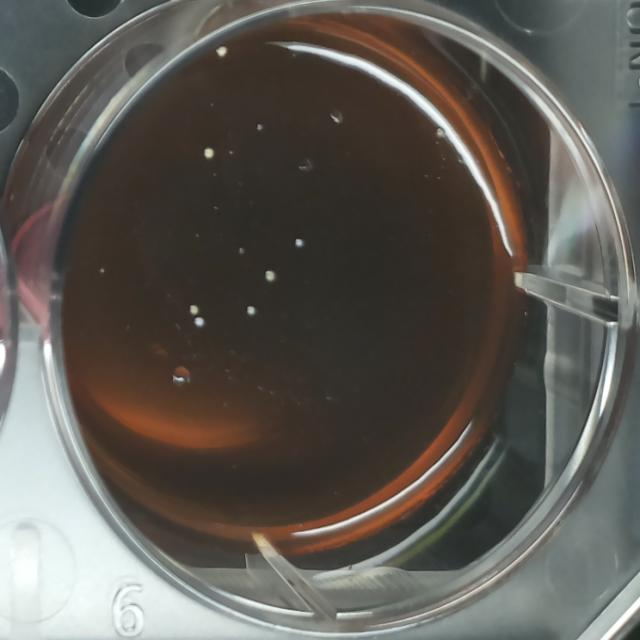Staphylococcus: (262, 268, 278, 285), (244, 302, 258, 320), (201, 146, 216, 162), (214, 44, 230, 59), (291, 234, 305, 251), (187, 302, 200, 317), (193, 315, 205, 330), (434, 125, 446, 140), (254, 121, 264, 132), (237, 246, 246, 256)
